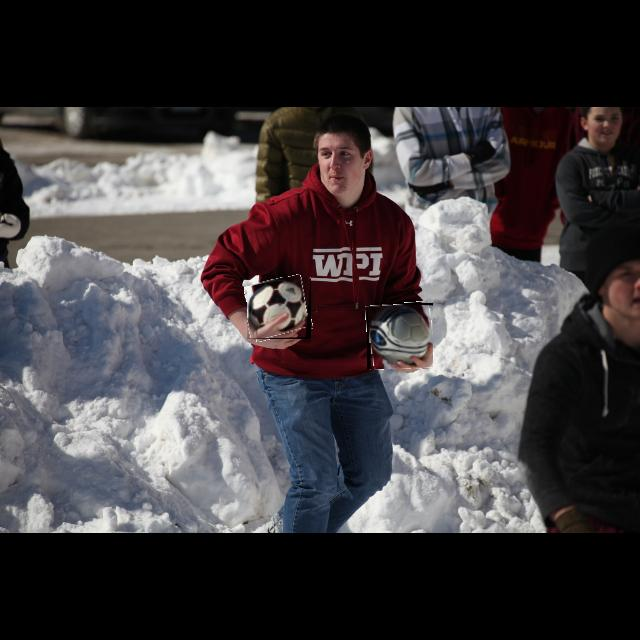Football: (367, 303, 433, 369), (247, 277, 311, 339)
